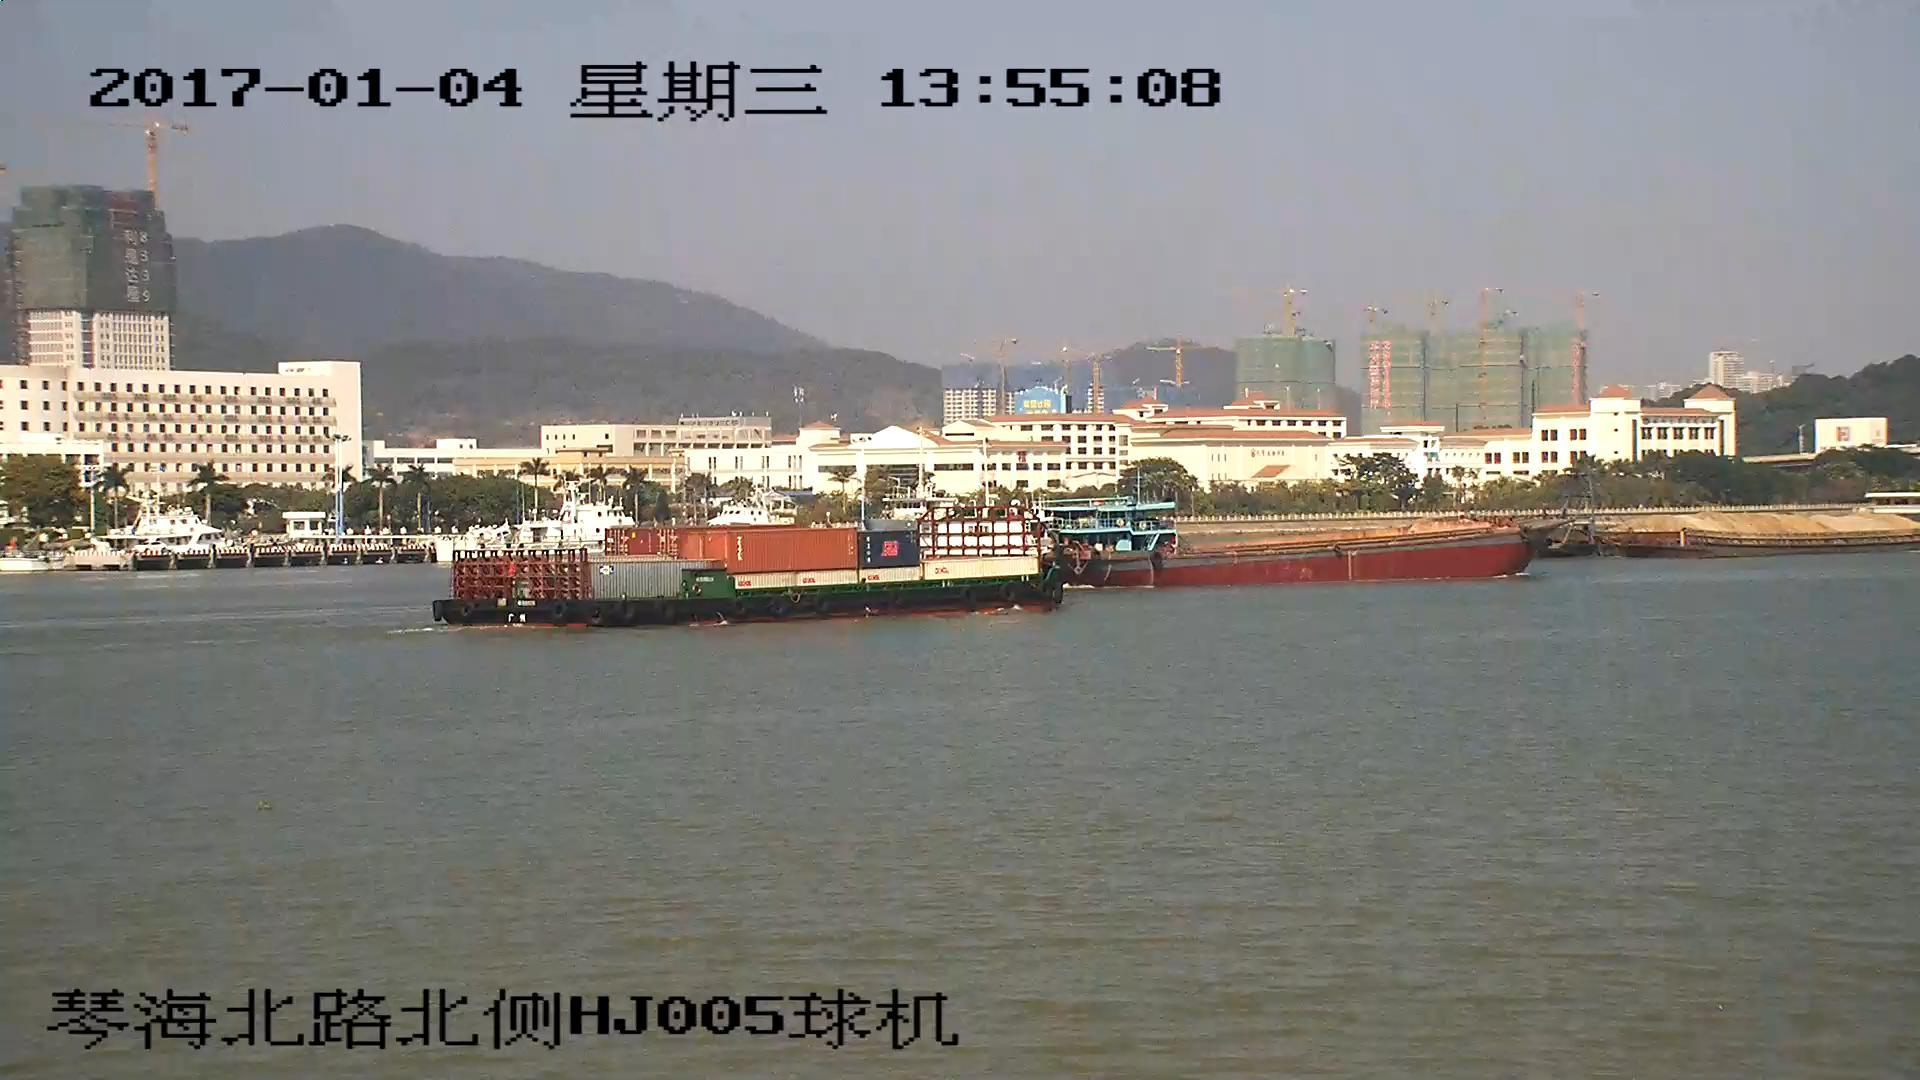Ship: (436, 506, 1065, 630), (1067, 524, 1563, 588), (1563, 504, 1920, 555)
